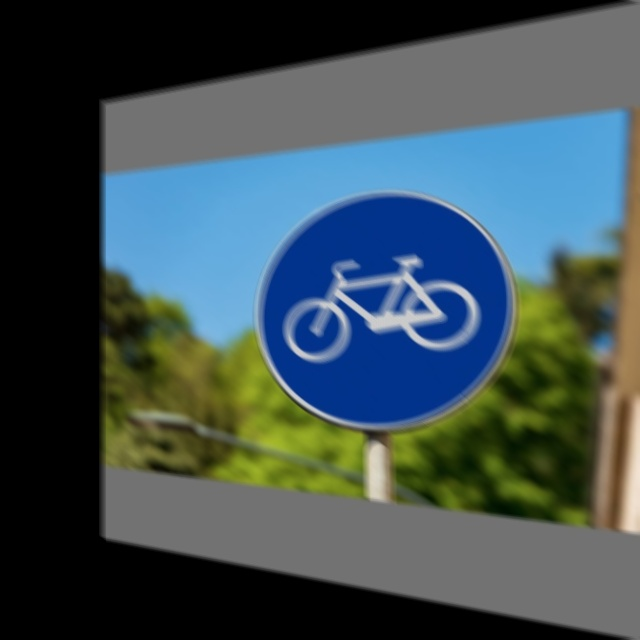Compulsory_Cycle_Track: (257, 178, 517, 444)
